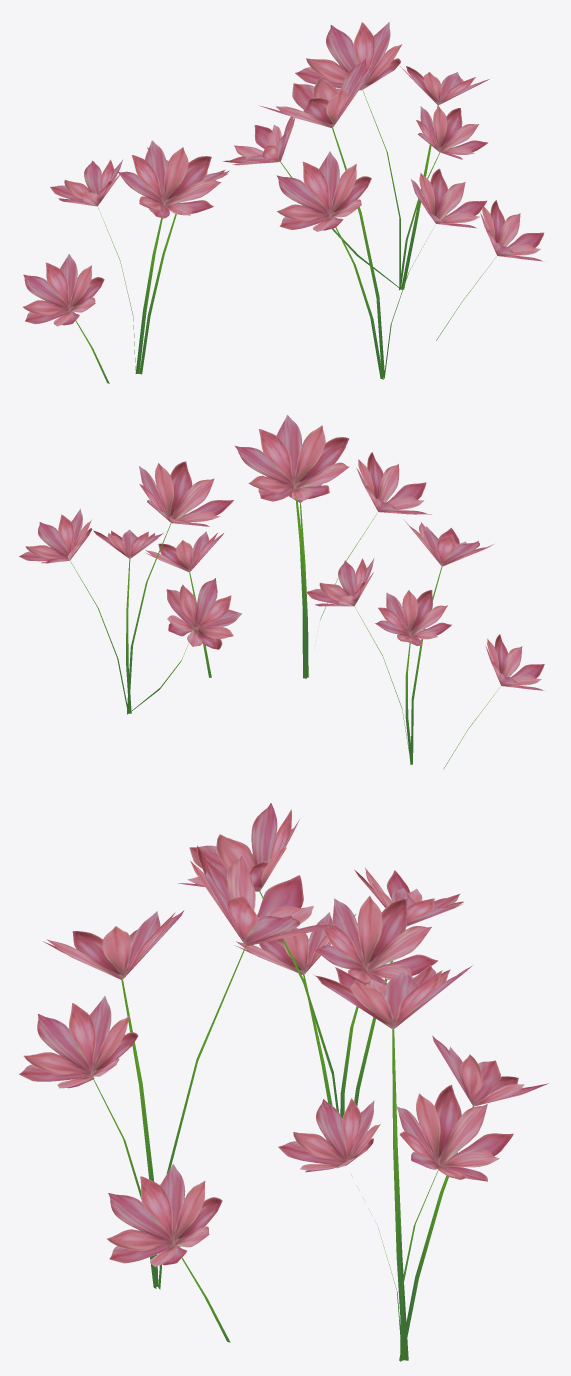
File: SM_FlowerGroup_03.fbx
3 renders of one model, top to bottom at view 1: azimuth 30°, elevation 25°; view 2: azimuth 150°, elevation 25°; view 3: azimuth 270°, elevation 25°, orthographic. The views are drawn at different scales.
Parts seen in each view (by area): view 1: SM_FlowerGroup_03; view 2: SM_FlowerGroup_03; view 3: SM_FlowerGroup_03.
Part boxes in pixels (x1,y1,x2,y2): SM_FlowerGroup_03: (23, 22, 544, 383); SM_FlowerGroup_03: (19, 415, 544, 769); SM_FlowerGroup_03: (19, 803, 548, 1361).
Bounding box in the file's own units: 187 × 103 × 120.
